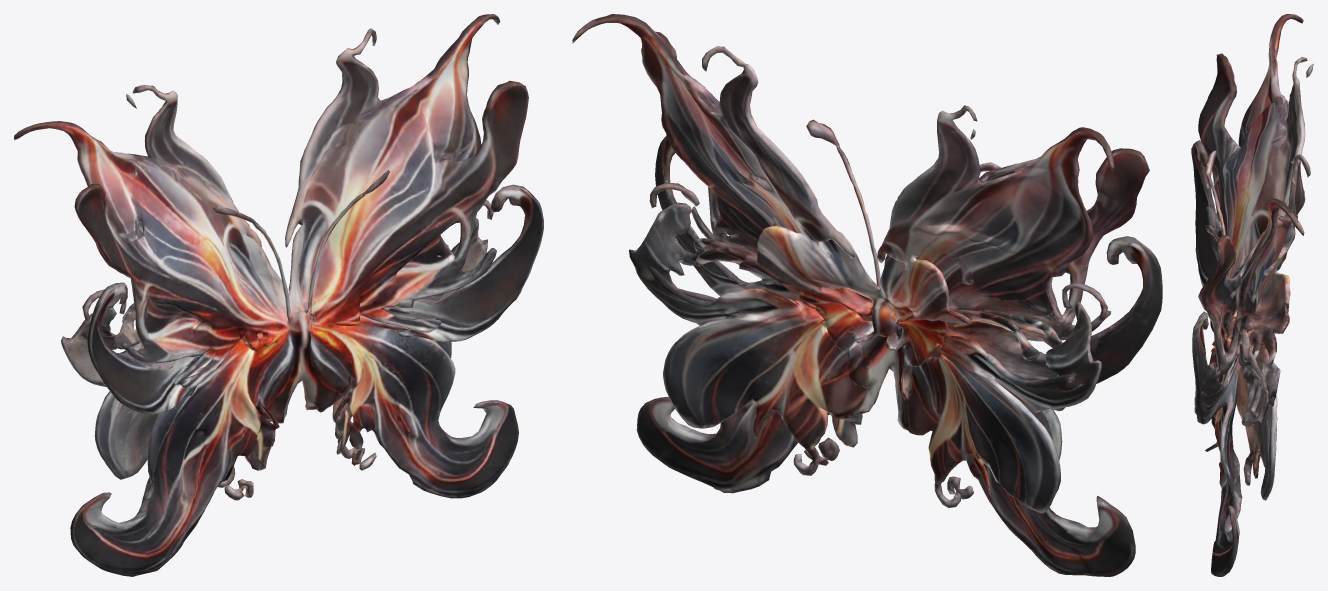
The model's file is Luminous_Elegance_1128161328.glb.
3 renders of one model, left to right at view 1: azimuth 30°, elevation 25°; view 2: azimuth 150°, elevation 25°; view 3: azimuth 270°, elevation 25°, orthographic. The views are drawn at different scales.
Bounding box in the file's own units: 2.03 × 1.77 × 0.4981.
1 material, 1 textured.
